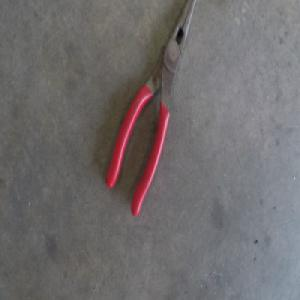Pliers: (105, 0, 195, 216)
